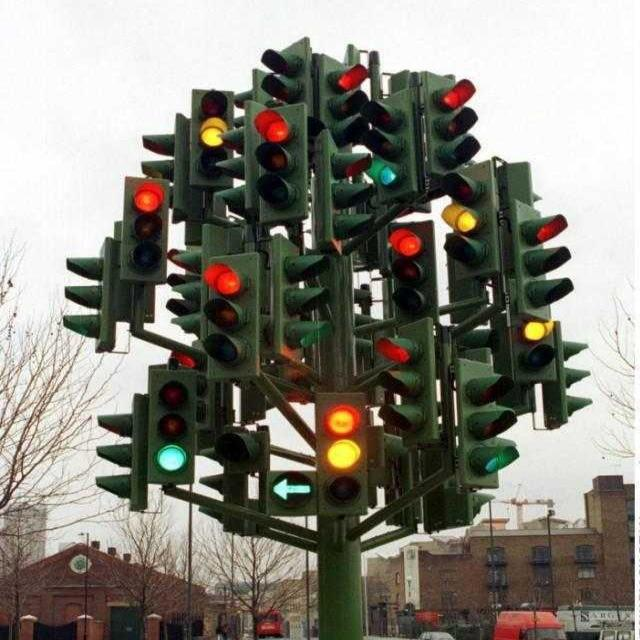Traffic Light -Green-: (453, 354, 520, 492), (363, 89, 425, 204), (276, 241, 334, 363), (145, 368, 197, 488)
Traffic Light -Red-: (200, 255, 264, 382), (513, 204, 579, 312), (378, 328, 438, 443), (254, 108, 312, 220), (431, 68, 485, 175), (316, 59, 374, 148), (386, 225, 442, 316), (129, 174, 165, 278)
Traffic Light -Yellow-: (316, 394, 374, 526), (443, 168, 503, 280), (513, 264, 560, 385), (192, 84, 237, 190)
